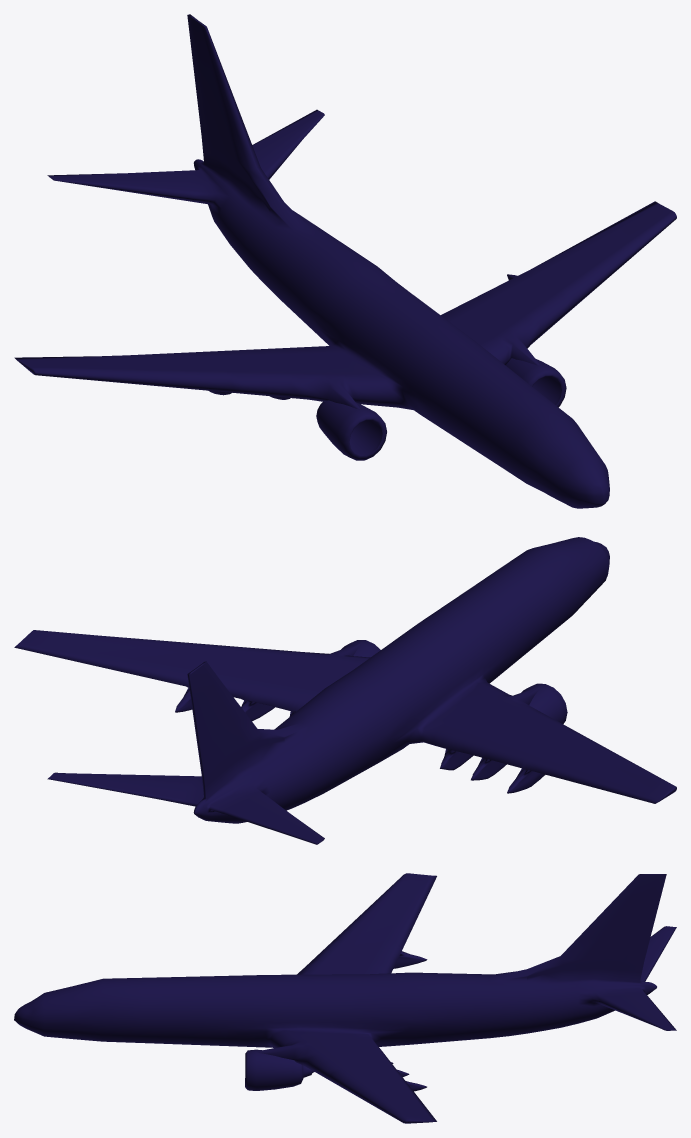
The picture shows the model from 3 angles, top to bottom: view 1: azimuth 30°, elevation 25°; view 2: azimuth 150°, elevation 25°; view 3: azimuth 270°, elevation 25°; orthographic projection. The views are drawn at different scales.
Visible parts, largest first — view 1: Plane; view 2: Plane; view 3: Plane.
Boxes of the visible parts, x1,y1,x2,y2 form: Plane: (14, 14, 676, 508); Plane: (14, 537, 676, 844); Plane: (14, 873, 676, 1123).
Size of the model in its own units: 3.53 by 1.21 by 4.02.
